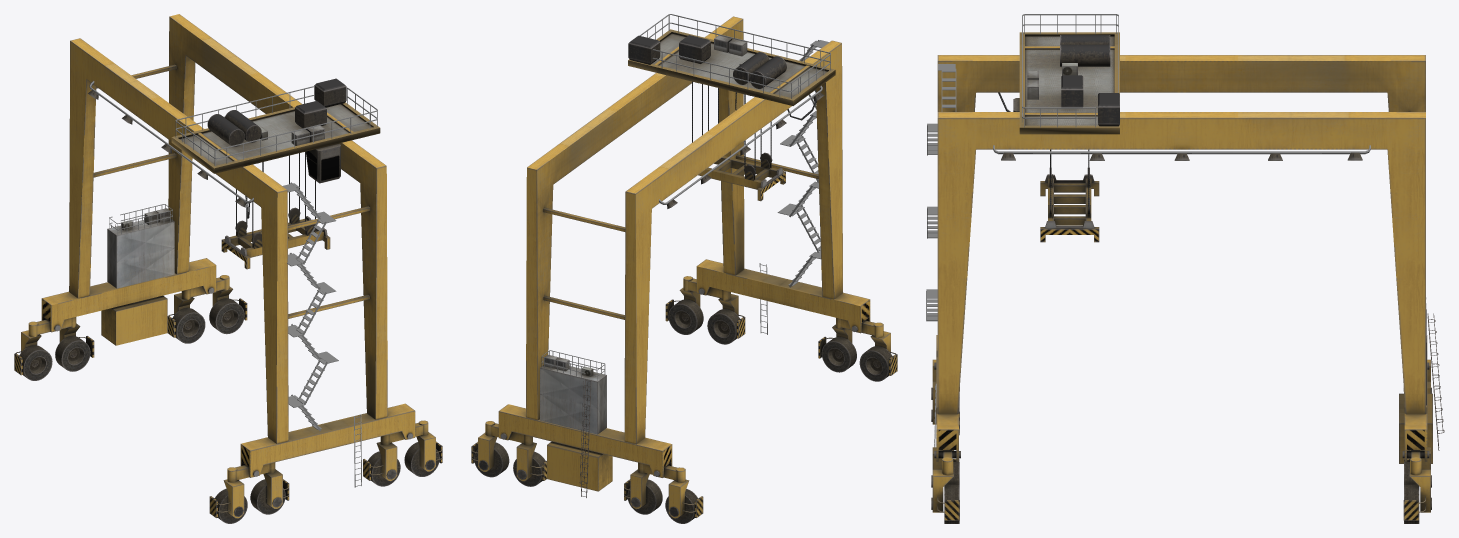
The model's file is empty_yard_crane.glb.
3 views of the same model, side by side, from view 1: azimuth 30°, elevation 25°; view 2: azimuth 150°, elevation 25°; view 3: azimuth 270°, elevation 25° (orthographic). The views are drawn at different scales.
Visible parts, largest first — view 1: mesh0; view 2: mesh0; view 3: mesh0.
Part boxes in pixels (<box>): mesh0: <box>14,14,442,523</box>; mesh0: <box>471,14,897,523</box>; mesh0: <box>926,14,1444,523</box>.
Bounding box in the file's own units: 7.89 × 11.58 × 13.29.
Materials: 1 (1 with a texture image).
